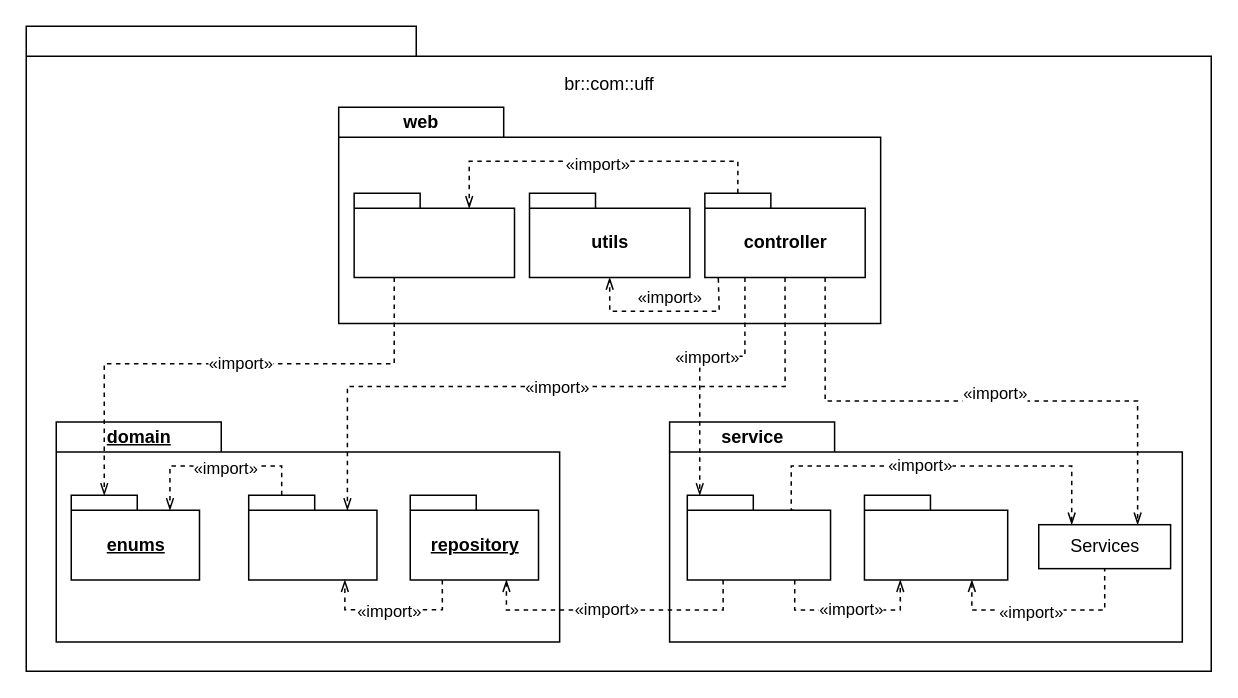
The diagram is 1238 pixels wide and 698 high, and some of its shapes have lost their labels. The shapes that lost their labels are listed below. From the top down, each one's box as (x1, y1, x2, y2) in pixels, then its label:
(353, 192, 514, 278): dto
(247, 494, 377, 580): entity
(686, 494, 831, 580): impl
(863, 494, 1008, 580): exception
